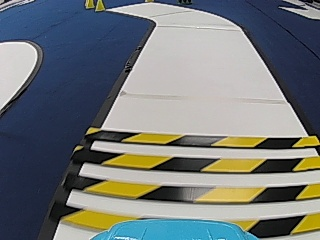bump: (57, 124, 320, 226)
